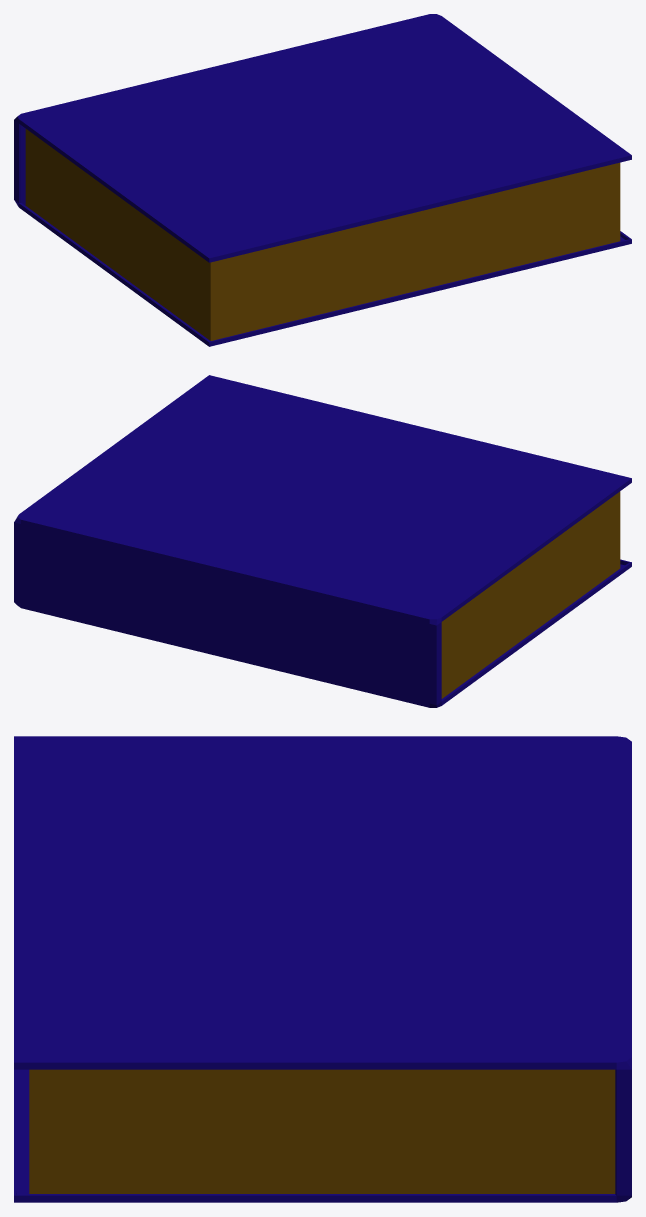
Rendered from _ook1.fbx.
3 views of the same model, one above another, from view 1: azimuth 30°, elevation 25°; view 2: azimuth 150°, elevation 25°; view 3: azimuth 270°, elevation 25° (orthographic). The views are drawn at different scales.
Parts seen in each view (by area): view 1: Cube; view 2: Cube; view 3: Cube.
Part boxes in pixels (box(x1,y1,x2,y2)): Cube: box(14, 14, 631, 346); Cube: box(14, 375, 631, 707); Cube: box(14, 736, 631, 1202).
Bounding box in the file's own units: 200 × 40 × 160.
